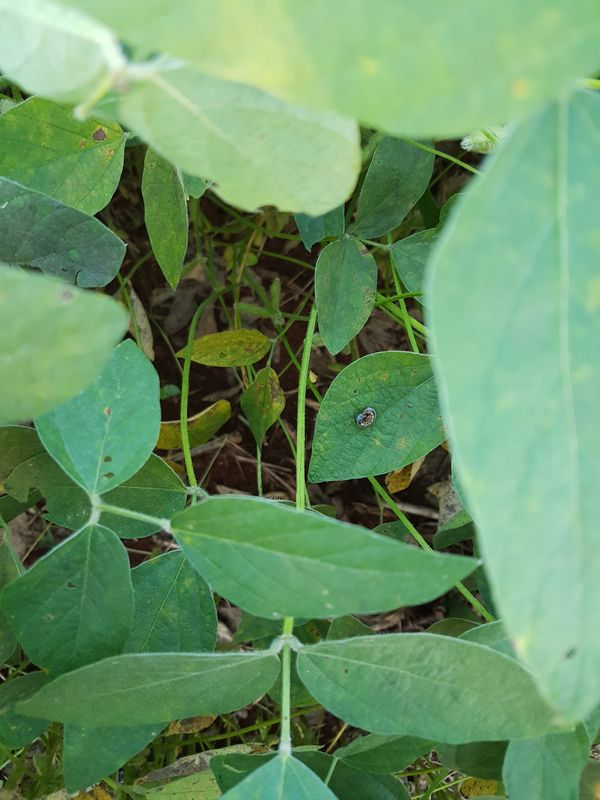Spodoptera_albula: (346, 402, 381, 434)
